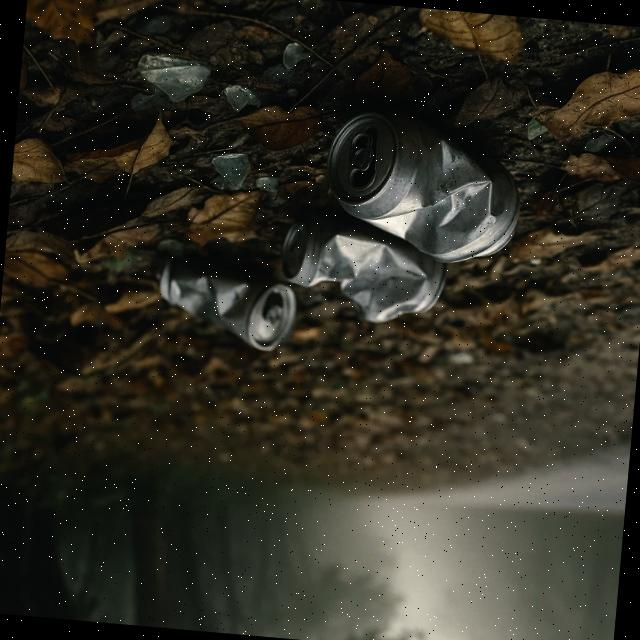aluminum: (324, 115, 525, 268), (276, 215, 448, 324), (150, 252, 301, 354)
